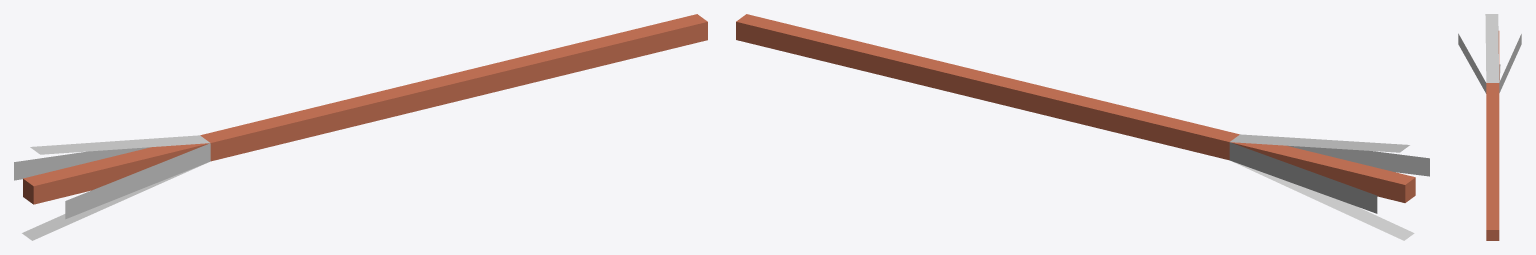
File: Dart01(1).fbx
3 views of the same model, side by side, from view 1: azimuth 30°, elevation 25°; view 2: azimuth 150°, elevation 25°; view 3: azimuth 270°, elevation 25° (orthographic). The views are drawn at different scales.
Parts seen in each view (by area): view 1: Cube; view 2: Cube; view 3: Cube.
Part boxes in pixels (left/top/right/bottom): Cube: left=14, top=14, right=707, bottom=240; Cube: left=736, top=14, right=1429, bottom=240; Cube: left=1458, top=14, right=1521, bottom=240.
Size of the model in its own units: 92.09 by 11.23 by 12.36.
